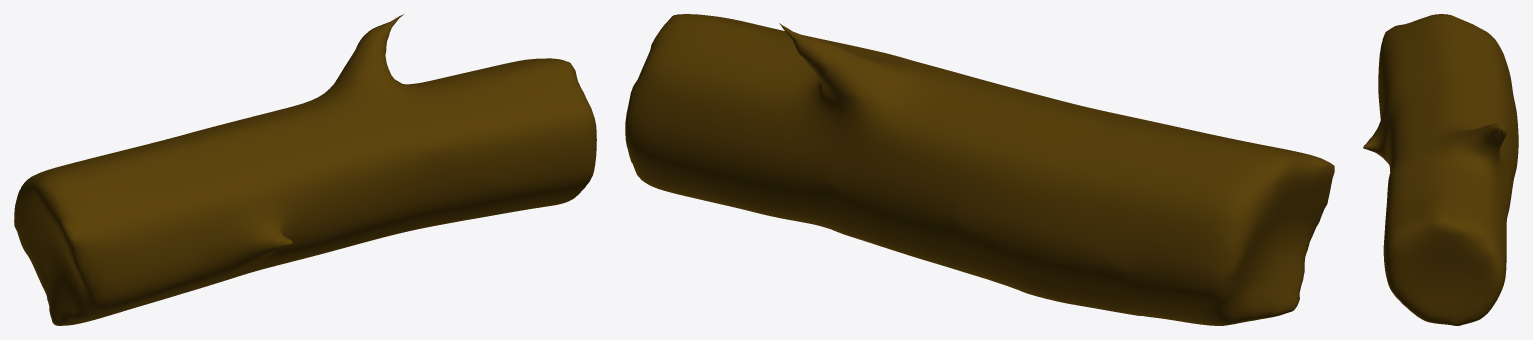
The model's file is Log2.glb.
The picture shows the model from 3 angles, left to right: view 1: azimuth 30°, elevation 25°; view 2: azimuth 150°, elevation 25°; view 3: azimuth 270°, elevation 25°; orthographic projection. The views are drawn at different scales.
Parts seen in each view (by area): view 1: Log2_wood; view 2: Log2_wood; view 3: Log2_wood.
Part boxes in pixels (bbox=[...]): Log2_wood: bbox=[14, 14, 596, 325]; Log2_wood: bbox=[625, 14, 1334, 325]; Log2_wood: bbox=[1363, 14, 1518, 325].
Bounding box in the file's own units: 8.04 × 2.68 × 2.51.
